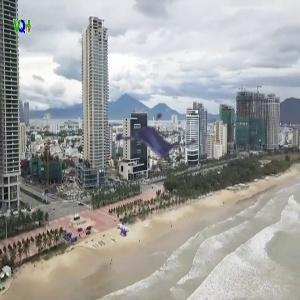drone: (99, 101, 190, 192)
